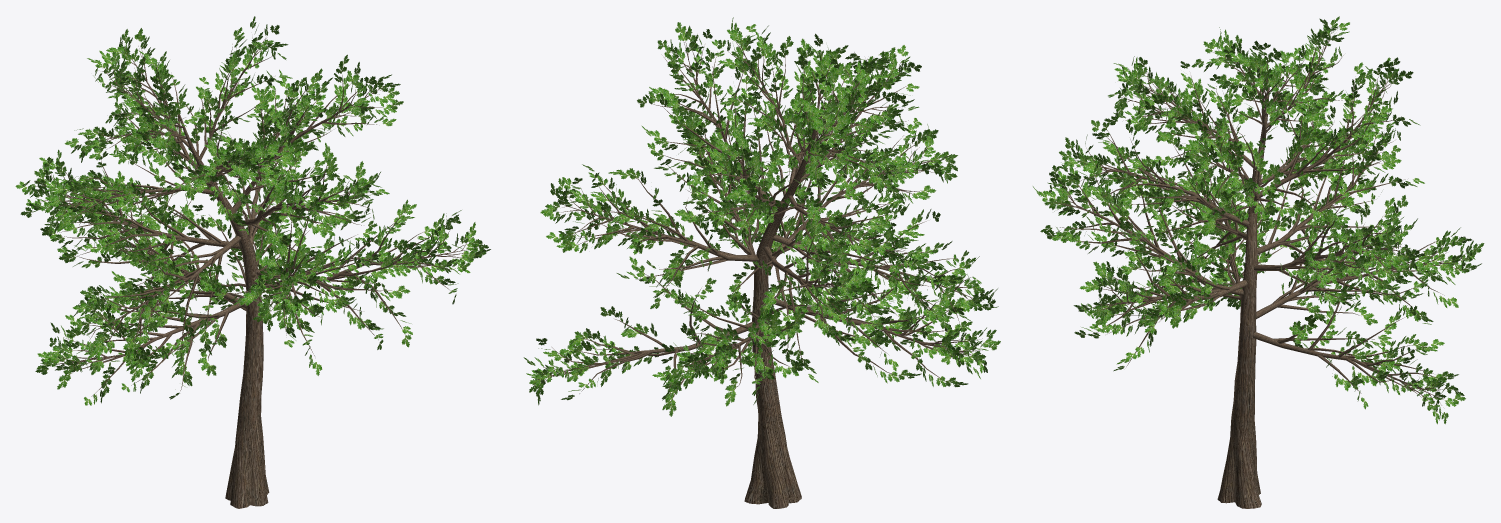
Rendered from OakTreeM01.FBX.
3 views of the same model, side by side, from view 1: azimuth 30°, elevation 25°; view 2: azimuth 150°, elevation 25°; view 3: azimuth 270°, elevation 25° (orthographic). The views are drawn at different scales.
Parts seen in each view (by area): view 1: OakTree01; view 2: OakTree01; view 3: OakTree01.
Boxes of the visible parts, <box> form: OakTree01: <box>15,16,490,508</box>; OakTree01: <box>523,17,1000,508</box>; OakTree01: <box>1033,16,1484,508</box>.
Bounding box in the file's own units: 5.96 × 6.95 × 6.2.
